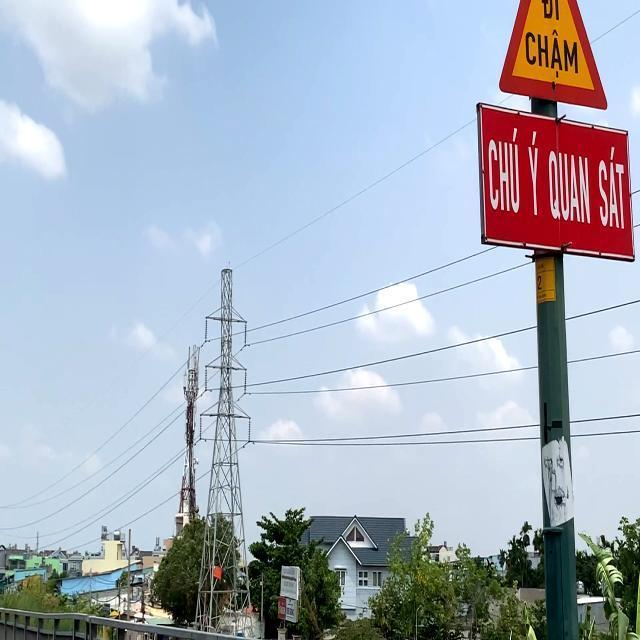245-di-cham: (498, 1, 609, 113)
